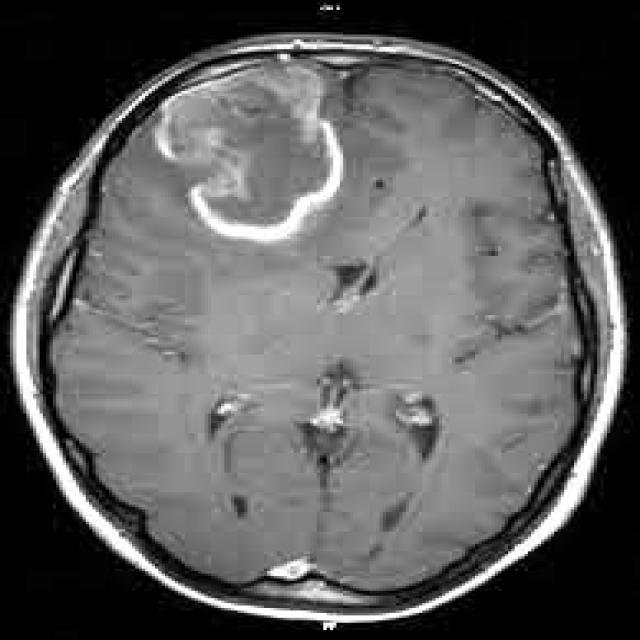Tumor-Cell: (170, 61, 345, 238)
